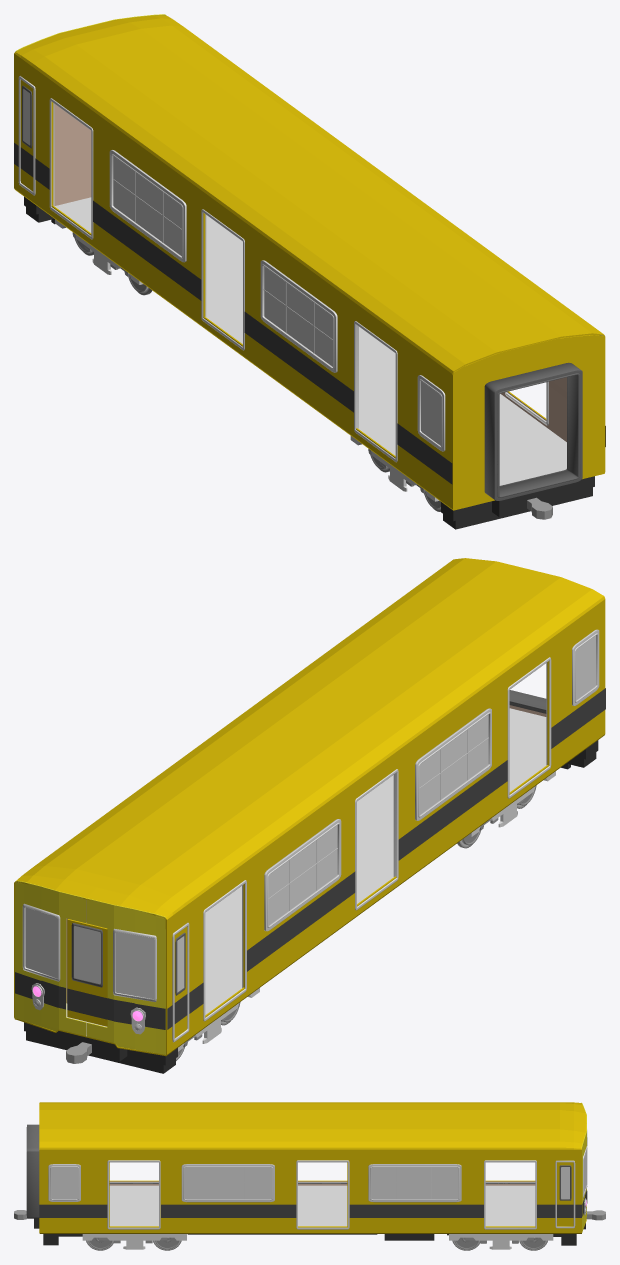
Rendered from Subte.fbx.
3 views of the same model, one above another, from view 1: azimuth 30°, elevation 25°; view 2: azimuth 150°, elevation 25°; view 3: azimuth 270°, elevation 25° (orthographic). The views are drawn at different scales.
Visible parts, largest first — view 1: Cylinder; view 2: Cylinder; view 3: Cylinder.
Boxes of the visible parts, x1,y1,x2,y2 form: Cylinder: (14,14,605,529); Cylinder: (14,558,605,1073); Cylinder: (14,1102,605,1250).
Bounding box in the file's own units: 673 × 781 × 3544.
